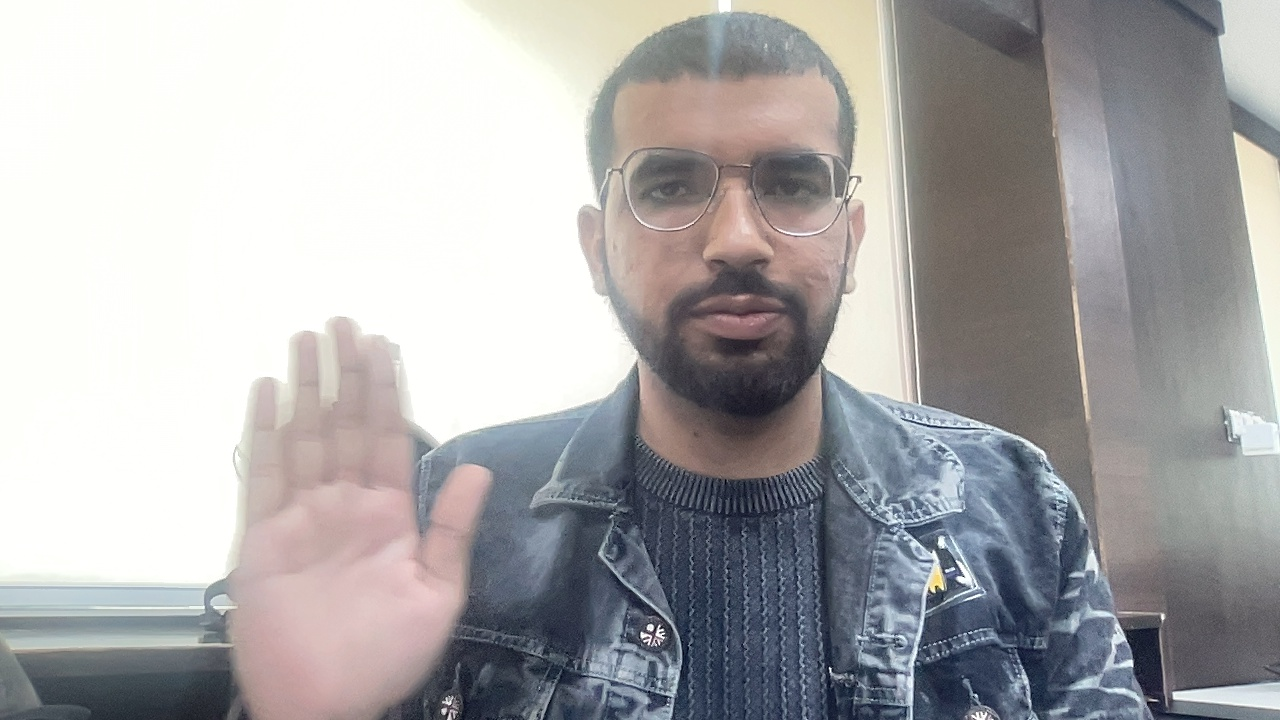Hello: (147, 309, 497, 720)
